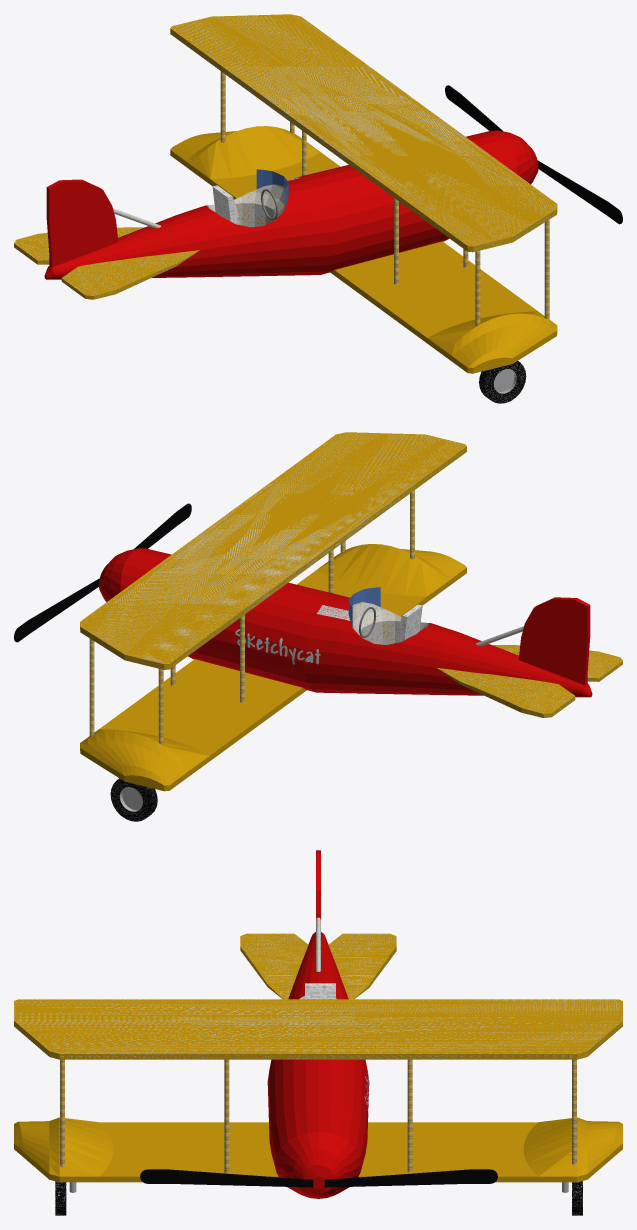
The picture shows the model from 3 angles, top to bottom: view 1: azimuth 30°, elevation 25°; view 2: azimuth 150°, elevation 25°; view 3: azimuth 270°, elevation 25°; orthographic projection.
Visible parts, largest first — view 1: mesh54_mesh54-geometry, mesh55_mesh55-geometry, mesh38_mesh38-geometry, mesh47_mesh47-geometry, mesh43_mesh43-geometry, mesh51_mesh51-geometry, mesh20_mesh20-geometry; view 2: mesh54_mesh54-geometry, mesh55_mesh55-geometry, mesh33_mesh33-geometry, mesh43_mesh43-geometry, mesh47_mesh47-geometry, mesh51_mesh51-geometry, mesh4_mesh4-geometry; view 3: mesh54_mesh54-geometry, mesh55_mesh55-geometry, mesh47_mesh47-geometry, mesh43_mesh43-geometry, mesh28_mesh28-geometry, mesh12_mesh12-geometry, mesh20_mesh20-geometry, mesh4_mesh4-geometry, mesh51_mesh51-geometry.
Boxes of the visible parts, <box> form: mesh54_mesh54-geometry: <box>14,126,557,373</box>; mesh55_mesh55-geometry: <box>170,14,557,252</box>; mesh38_mesh38-geometry: <box>479,361,526,403</box>; mesh47_mesh47-geometry: <box>537,160,622,224</box>; mesh43_mesh43-geometry: <box>445,85,502,131</box>; mesh51_mesh51-geometry: <box>212,185,239,224</box>; mesh20_mesh20-geometry: <box>544,219,549,320</box>; mesh54_mesh54-geometry: <box>80,544,622,791</box>; mesh55_mesh55-geometry: <box>80,432,466,669</box>; mesh33_mesh33-geometry: <box>110,778,157,821</box>; mesh43_mesh43-geometry: <box>14,578,99,642</box>; mesh47_mesh47-geometry: <box>134,503,191,549</box>; mesh51_mesh51-geometry: <box>396,604,422,642</box>; mesh4_mesh4-geometry: <box>89,638,94,736</box>; mesh54_mesh54-geometry: <box>14,850,622,1198</box>; mesh55_mesh55-geometry: <box>14,999,622,1059</box>; mesh47_mesh47-geometry: <box>140,1169,313,1187</box>; mesh43_mesh43-geometry: <box>324,1169,497,1187</box>; mesh28_mesh28-geometry: <box>224,1059,229,1173</box>; mesh12_mesh12-geometry: <box>407,1059,412,1172</box>; mesh20_mesh20-geometry: <box>60,1059,64,1167</box>; mesh4_mesh4-geometry: <box>572,1059,576,1165</box>; mesh51_mesh51-geometry: <box>305,983,335,999</box>.
Bounding box in the file's own units: 0.6601 × 0.2623 × 0.7039.
